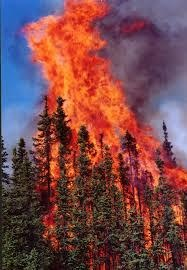fire: (22, 0, 182, 208)
